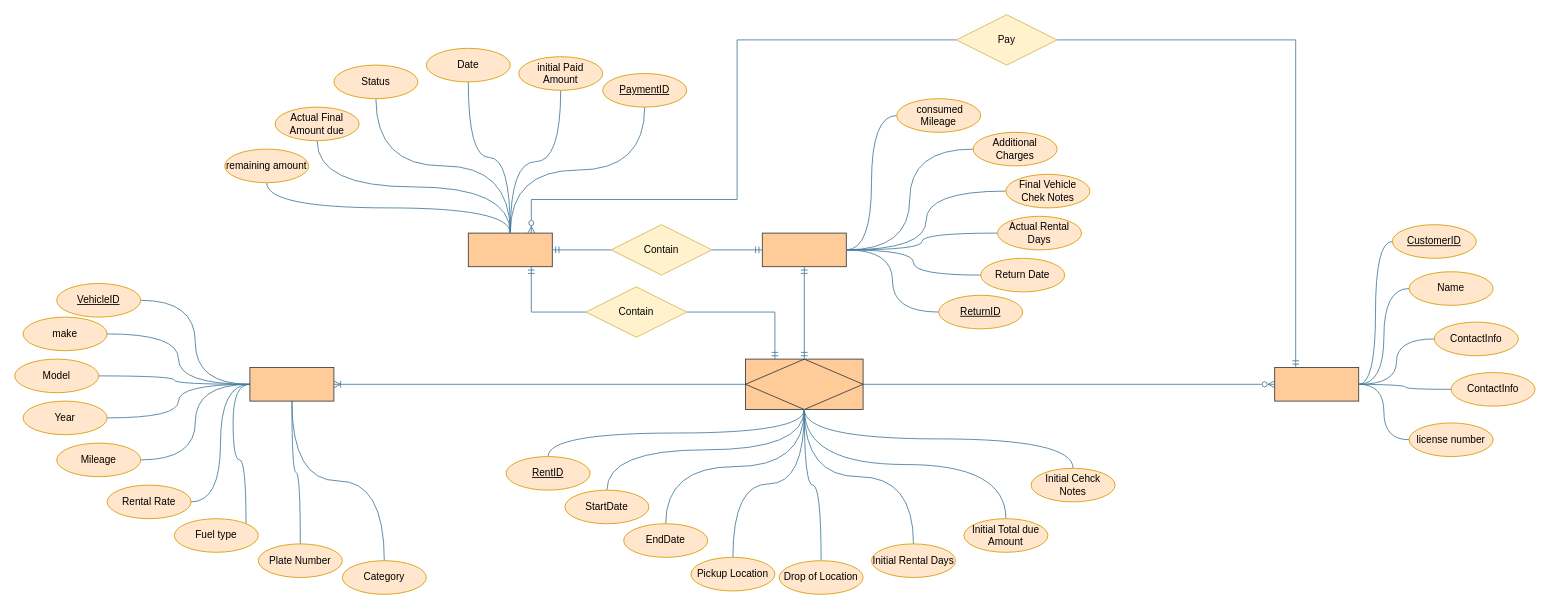
Some shapes in this 1550 by 609 pixel diagram are drawn without their labels. Each missing label, with the centre of its shape:
"Customer" goes at (x=1316, y=384).
"Payment" goes at (x=509, y=249).
"Rent" goes at (x=804, y=384).
"Return" goes at (x=803, y=249).
"Vehicle" goes at (x=291, y=384).
